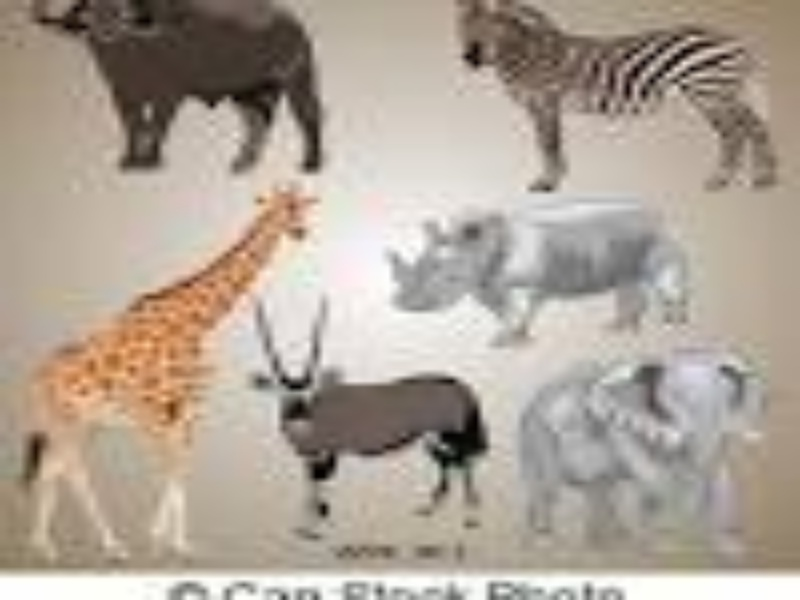buffalo: (16, 3, 338, 175)
